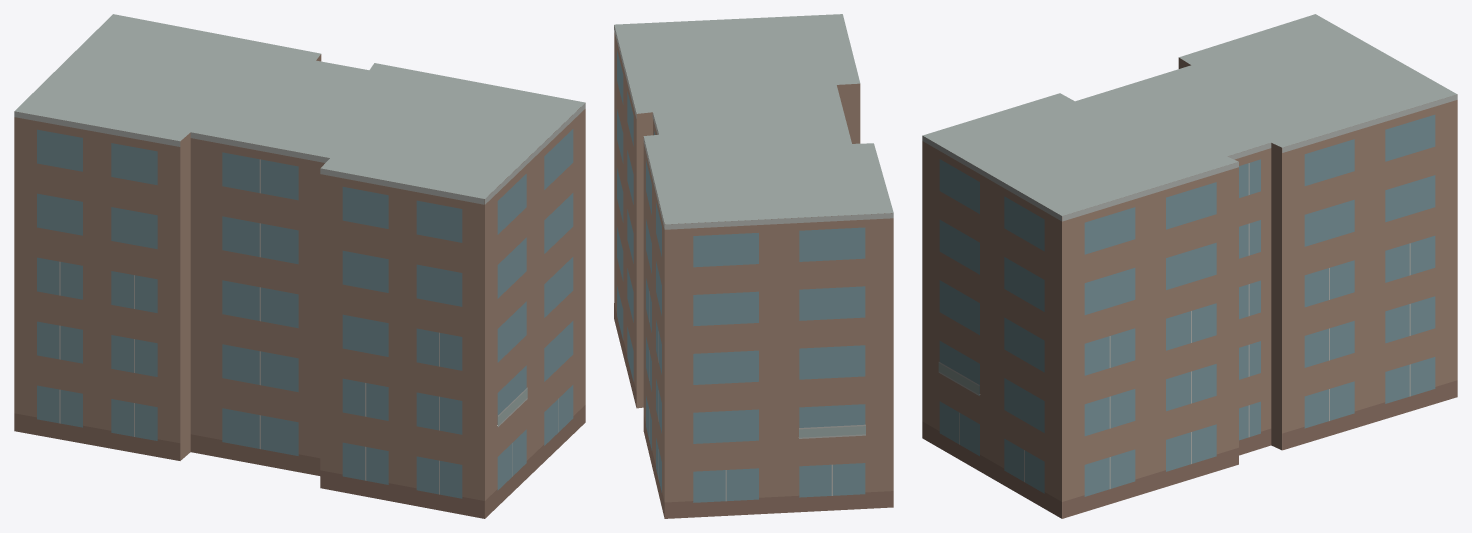
File: survey-upis-32932983.glb
3 renders of one model, left to right at view 1: azimuth 30°, elevation 25°; view 2: azimuth 150°, elevation 25°; view 3: azimuth 270°, elevation 25°, orthographic. The views are drawn at different scales.
Visible parts, largest first — view 1: survey-upis-32932983.tmp; view 2: survey-upis-32932983.tmp; view 3: survey-upis-32932983.tmp.
Part boxes in pixels (x1,y1,x2,y2): survey-upis-32932983.tmp: [14, 14, 585, 518]; survey-upis-32932983.tmp: [614, 14, 893, 518]; survey-upis-32932983.tmp: [922, 14, 1457, 518].
Size of the model in its own units: 19.34 by 13.5 by 21.63.
